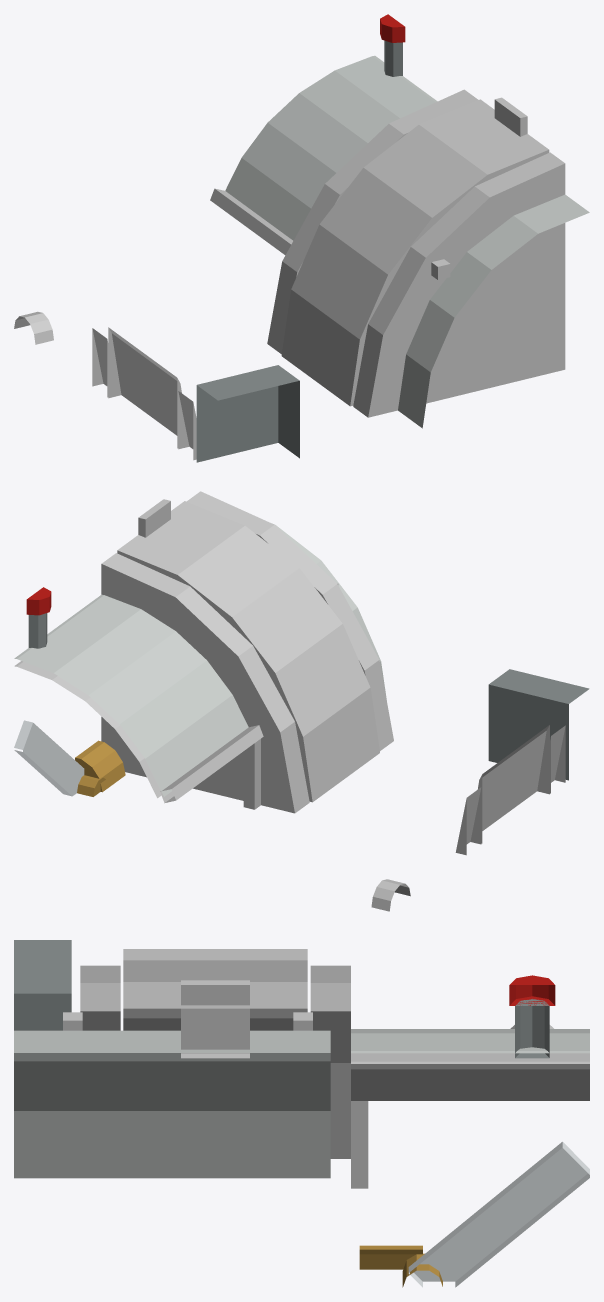
File: cell_93.obj
The picture shows the model from 3 angles, top to bottom: view 1: azimuth 30°, elevation 25°; view 2: azimuth 150°, elevation 25°; view 3: azimuth 270°, elevation 25°; orthographic projection. The views are drawn at different scales.
Size of the model in its own units: 1 by 0.58 by 1.
